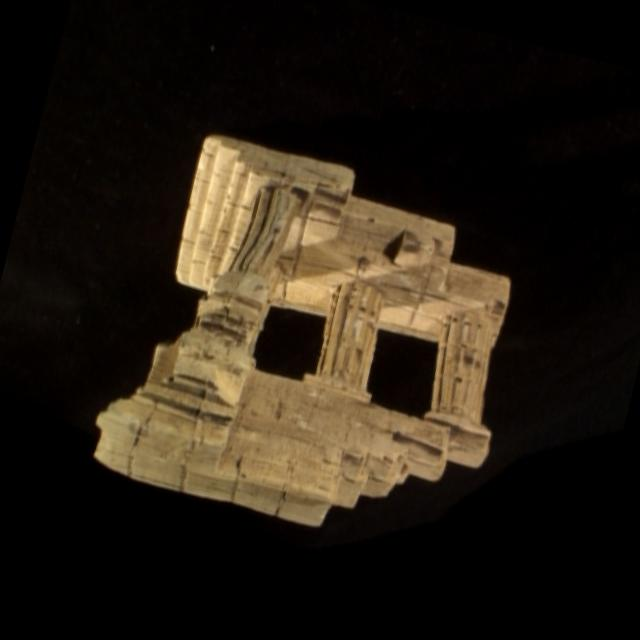Instance-Segmentation: (96, 134, 509, 524)
